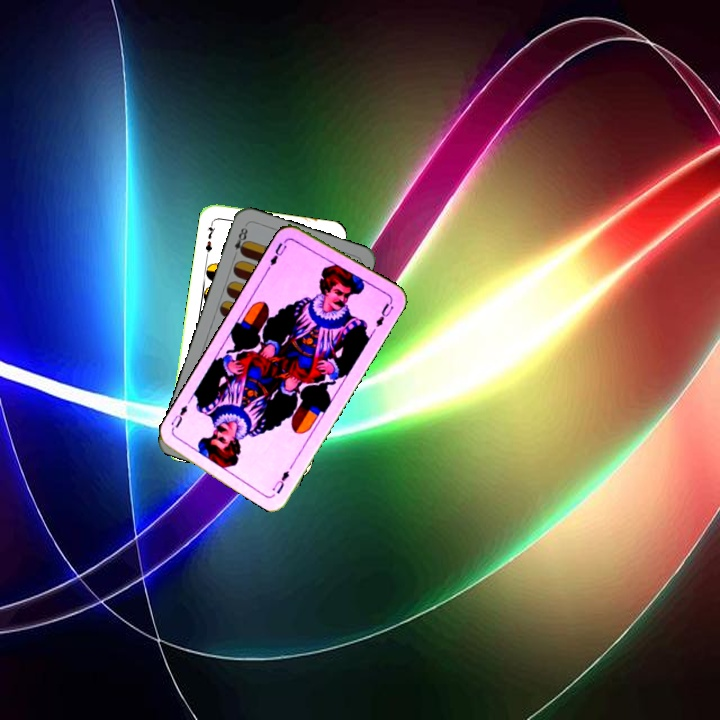E7: (201, 218, 218, 258)
E8: (229, 223, 250, 261)
EU: (266, 235, 290, 268), (268, 466, 292, 497)
